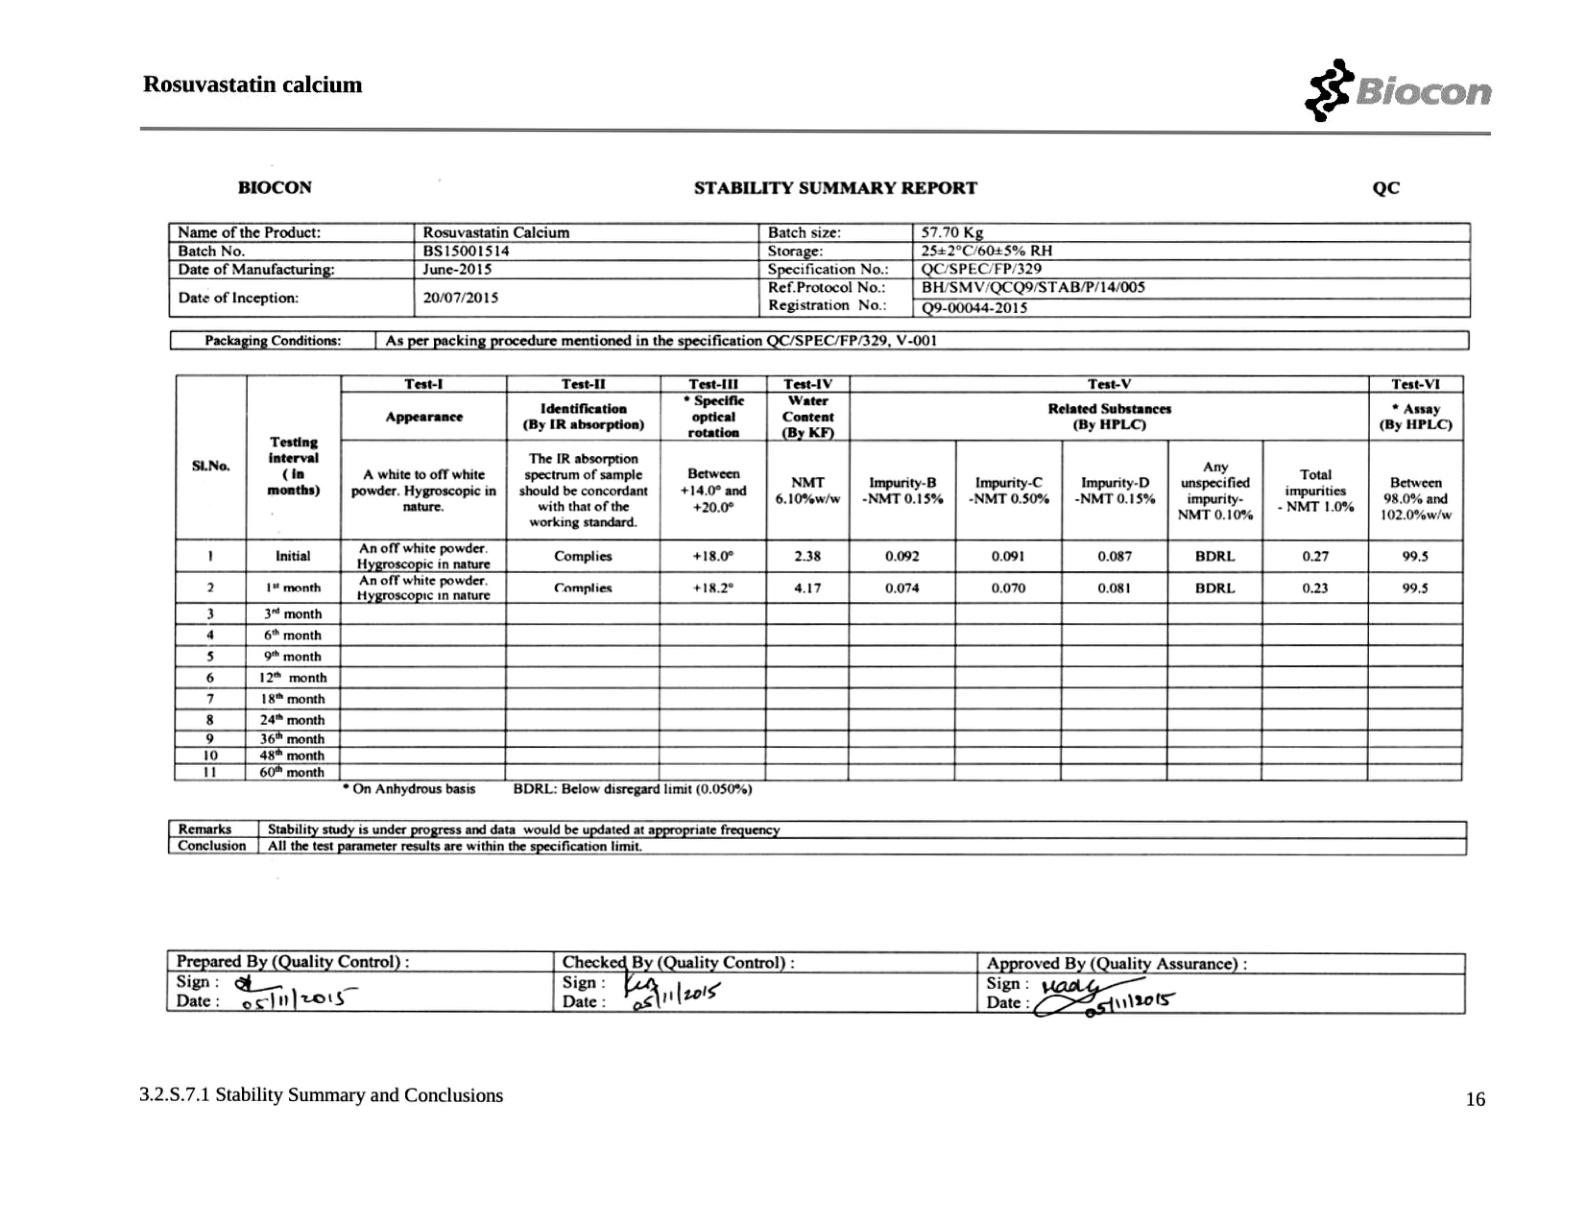full_lined: (166, 948, 1466, 1014), (167, 818, 1468, 855), (168, 328, 1470, 350)
merged_cells: (174, 373, 1465, 780), (167, 221, 1472, 318)
